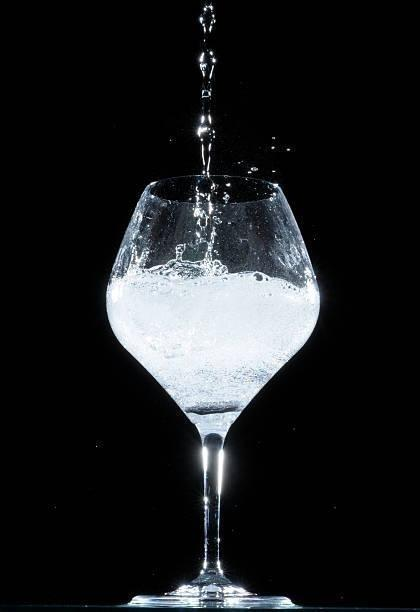glass-wine: (104, 172, 322, 608)
